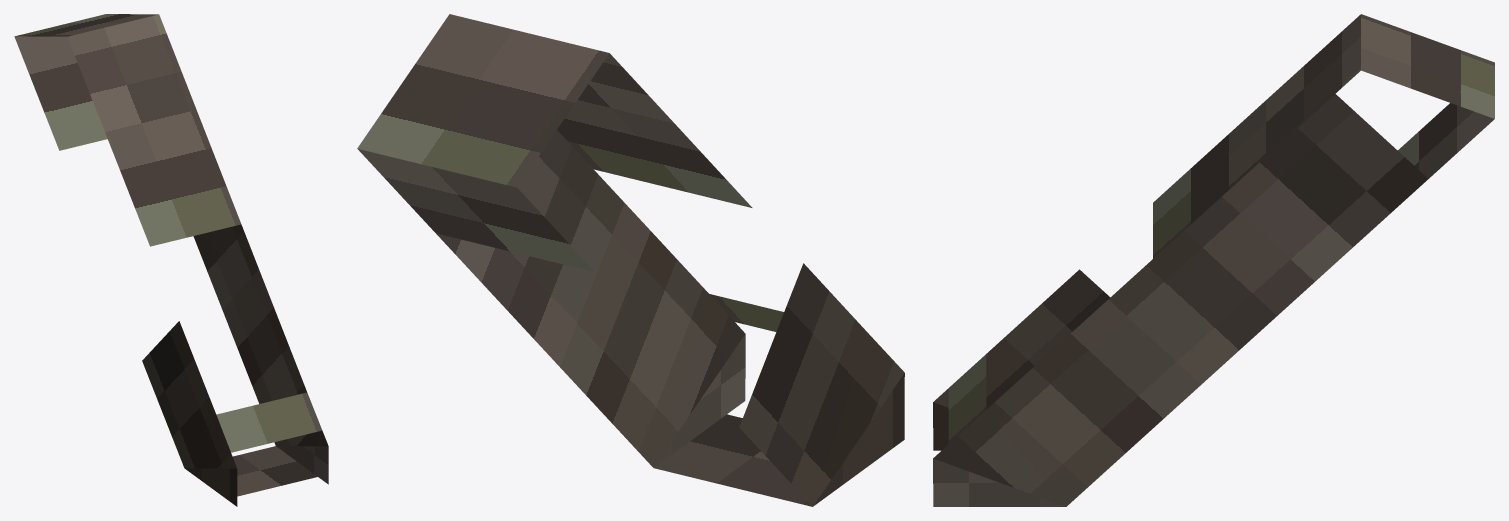
The model's file is elm_thin_branch_45_straight.obj.
3 renders of one model, left to right at view 1: azimuth 30°, elevation 25°; view 2: azimuth 150°, elevation 25°; view 3: azimuth 270°, elevation 25°, orthographic. The views are drawn at different scales.
Visible parts, largest first — view 1: cube; view 2: cube; view 3: cube.
Part boxes in pixels (left/top/right/bottom): cube: left=14, top=14, right=328, bottom=506; cube: left=357, top=14, right=904, bottom=506; cube: left=933, top=14, right=1494, bottom=506.
Bounding box in the file's own units: 0.3125 × 1.12 × 1.31.
